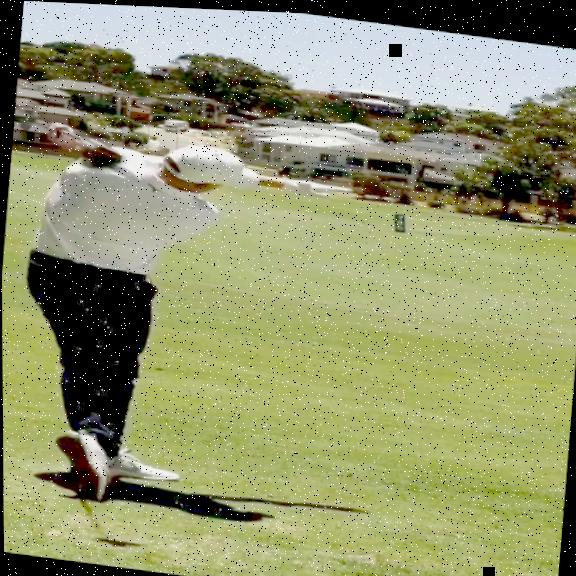ClubHead: (74, 137, 125, 172)
